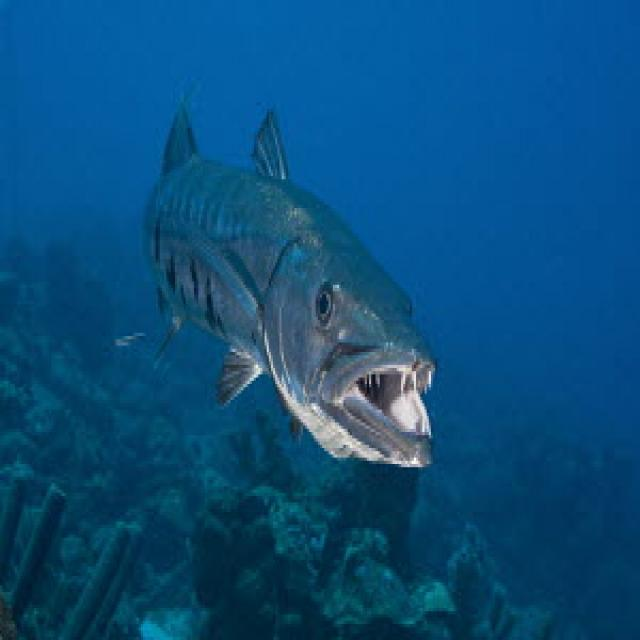Barracuda: (138, 76, 440, 474)
